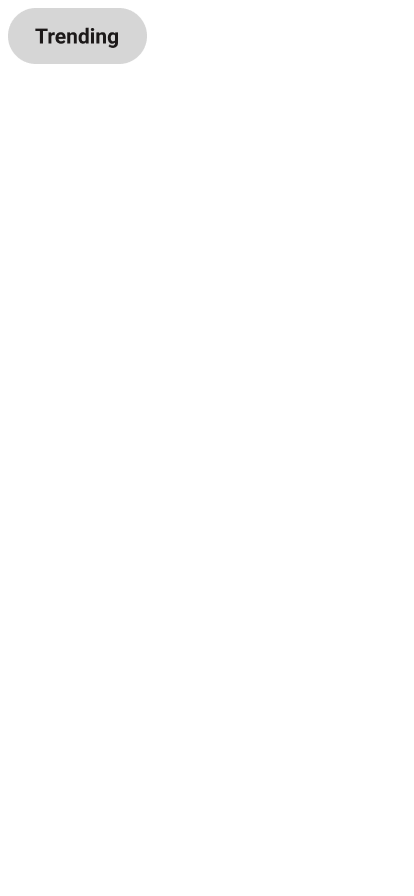buttons: (8, 8, 155, 64)
